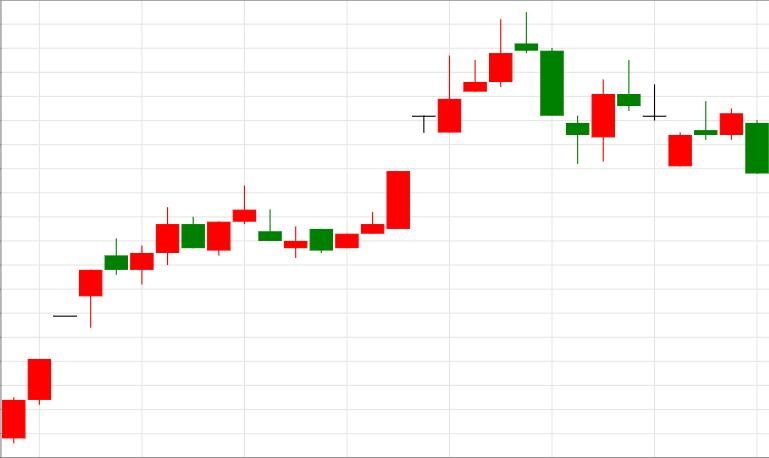evening_star_fall: (335, 13, 564, 249)
